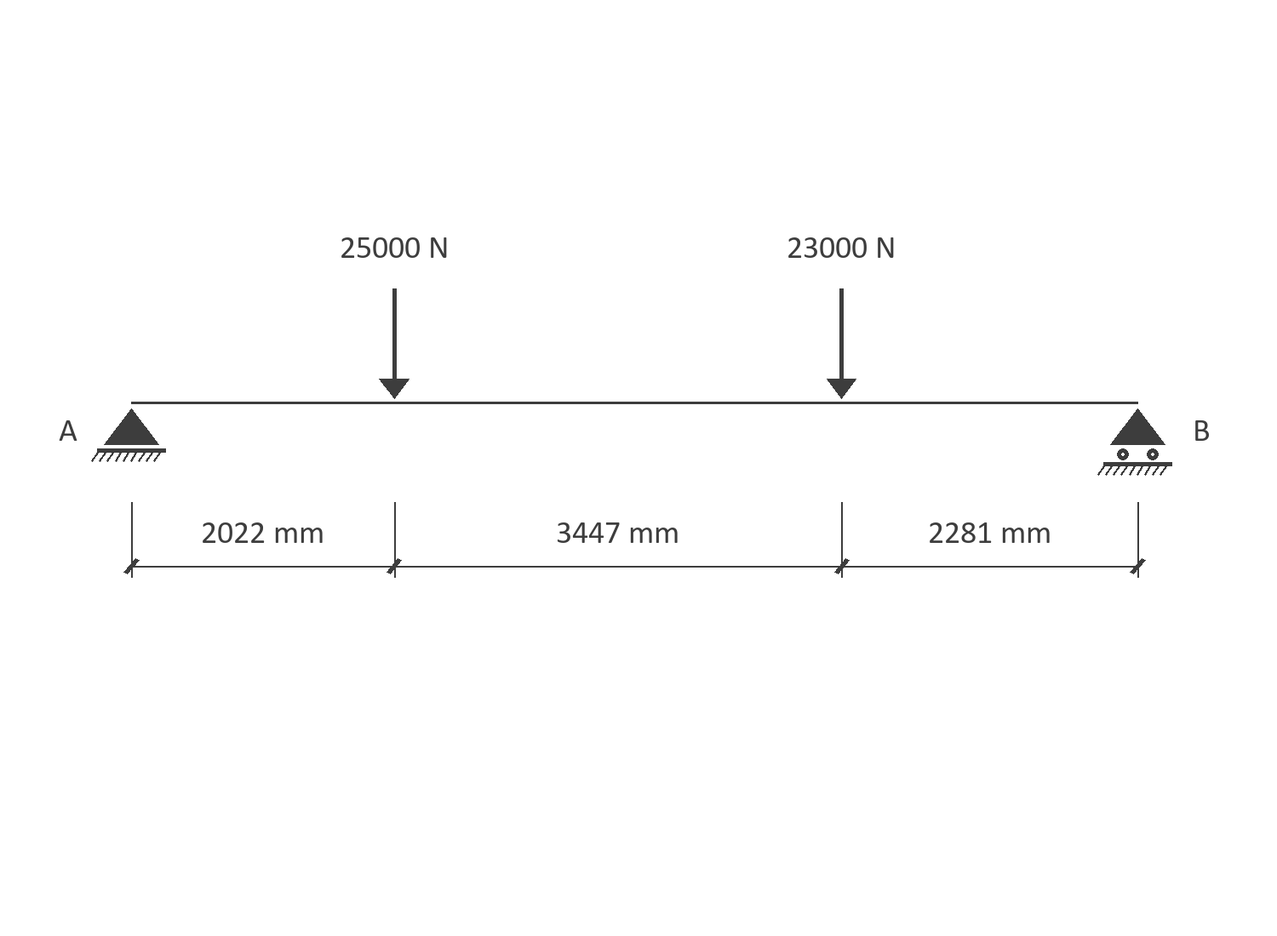pin_support: (91, 408, 166, 462)
point_load: (379, 288, 409, 399), (827, 288, 856, 399)
roller_support: (1097, 408, 1172, 476)
